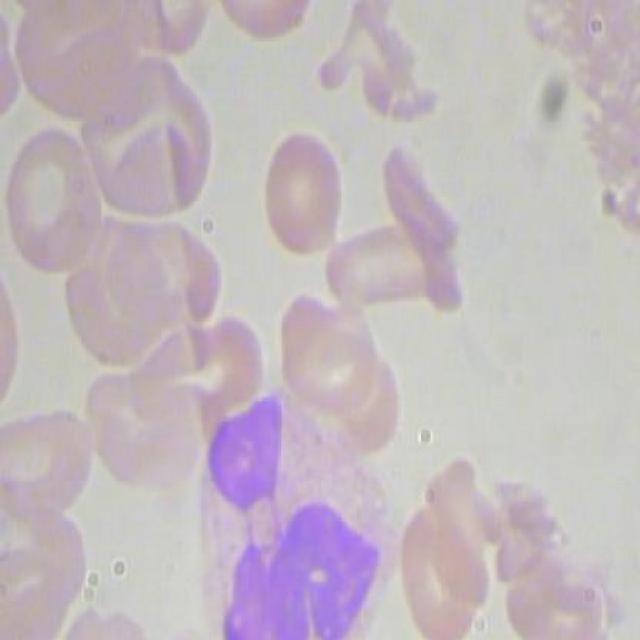WBC: (178, 380, 414, 638)
